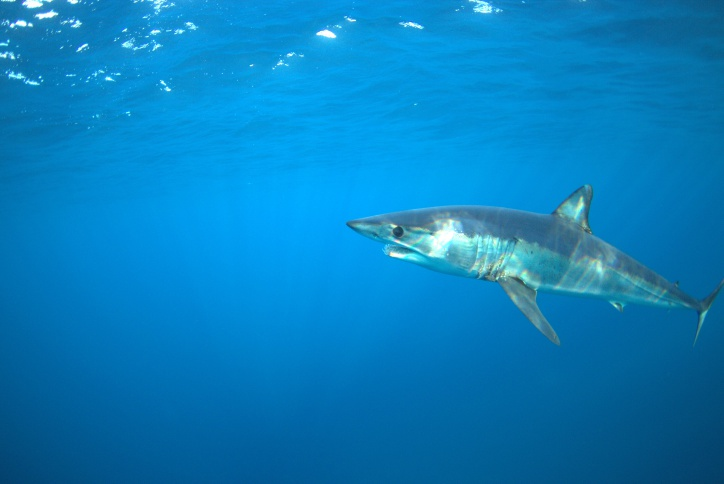Mako: (315, 177, 724, 358)
